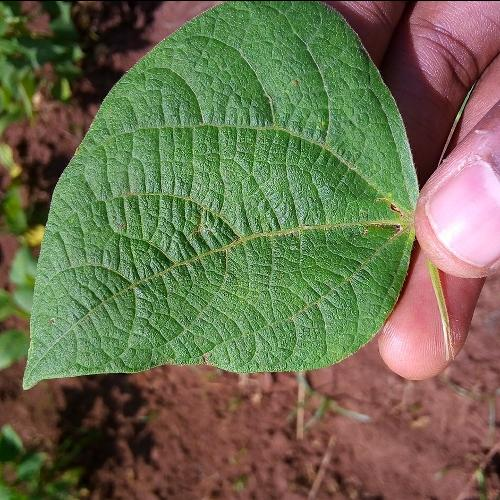sehat: (89, 53, 367, 368)
